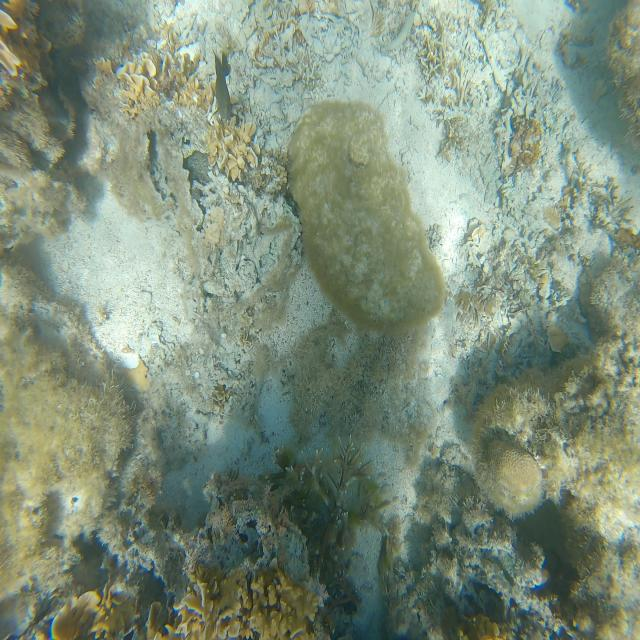kurohagi: (208, 53, 235, 129)
